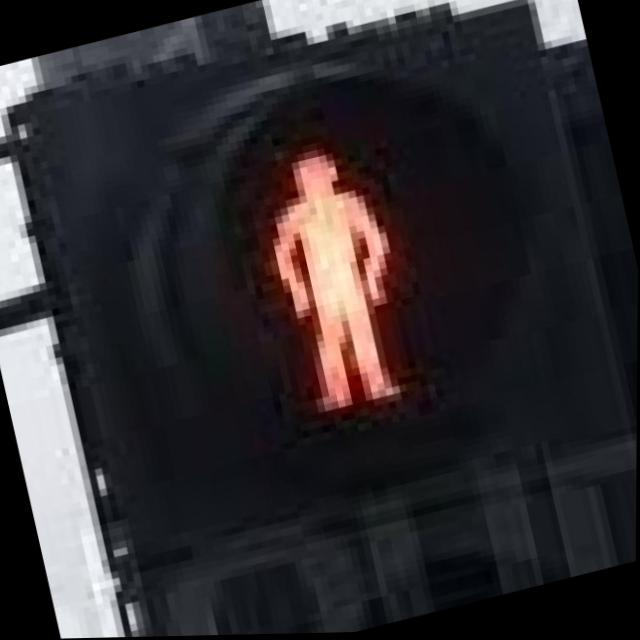red_light: (170, 86, 471, 442)
